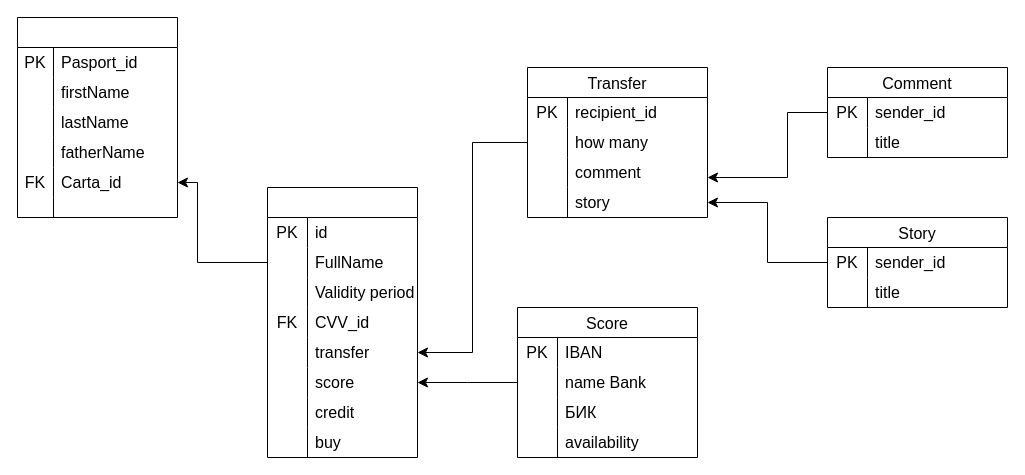
The diagram is 1025 pixels wide and 475 high, and some of its shapes have lost their labels. Each missing label, with the box of its shape:
Carta: (266, 186, 418, 458)
User: (16, 16, 178, 218)
